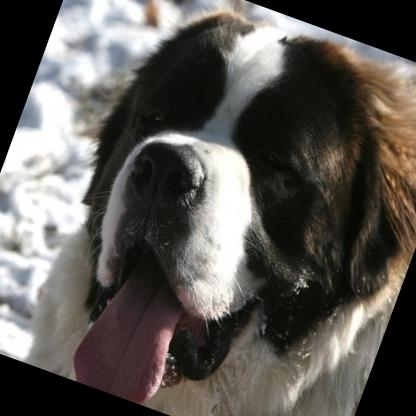Saint_Bernard: (13, 0, 416, 416)
